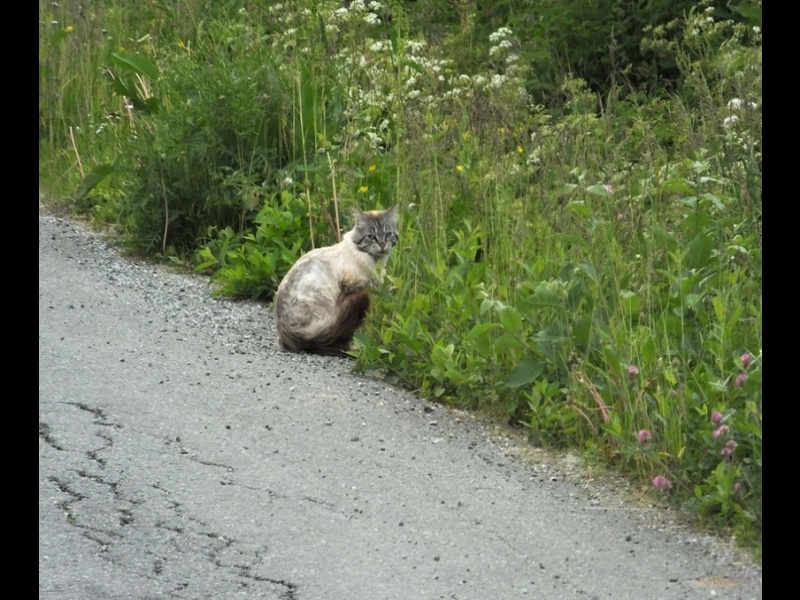cat: (273, 203, 403, 358)
